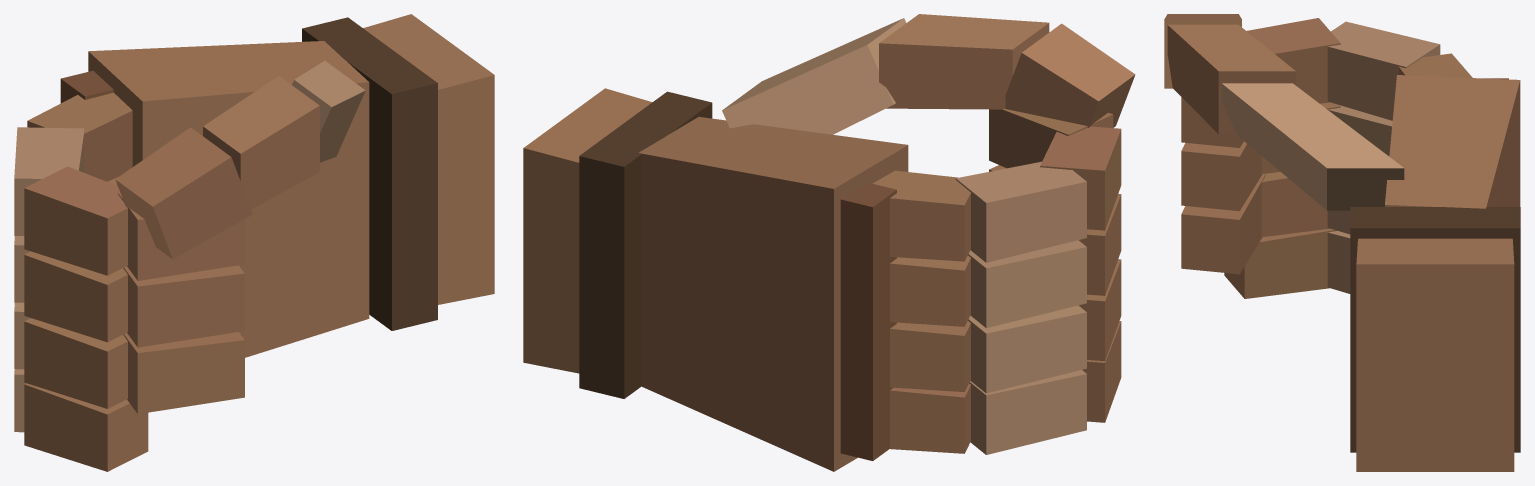
File: fist.glb
The picture shows the model from 3 angles, left to right: view 1: azimuth 30°, elevation 25°; view 2: azimuth 150°, elevation 25°; view 3: azimuth 270°, elevation 25°; orthographic projection. The views are drawn at different scales.
Parts seen in each view (by area): view 1: fp_fist_solid; view 2: fp_fist_solid; view 3: fp_fist_solid.
Part boxes in pixels (x1,y1,x2,y2): fp_fist_solid: (14,14,494,471); fp_fist_solid: (523,14,1135,471); fp_fist_solid: (1164,14,1520,471).
Size of the model in its own units: 0.1386 by 0.09 by 0.092.
